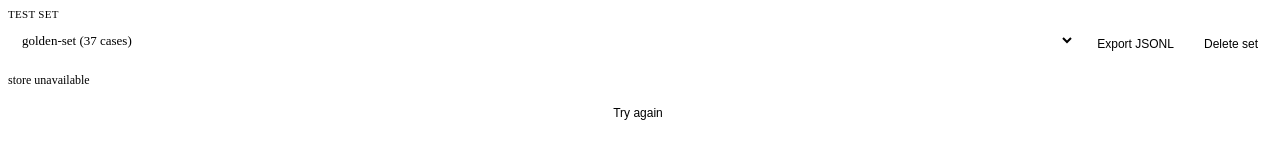
Scenario: EvalTestSets — reading › a failed read shows the error with a retry
This screenshot has width=1280, height=160.
Expected: the message with test id "sets-error" reads "store unavailable", [8,73,90,87]
Click the button "Try again" at (638, 113), box [8,102,1268,124]
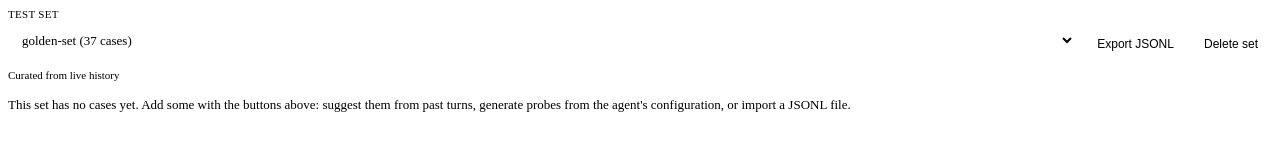
Expected: the text with test id "sets-empty" is shown, [8,97,851,112]
